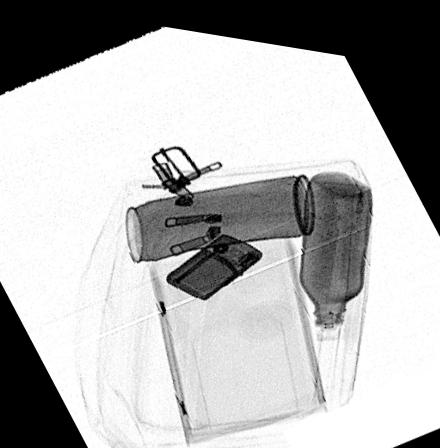Lighter: (164, 224, 262, 293)
